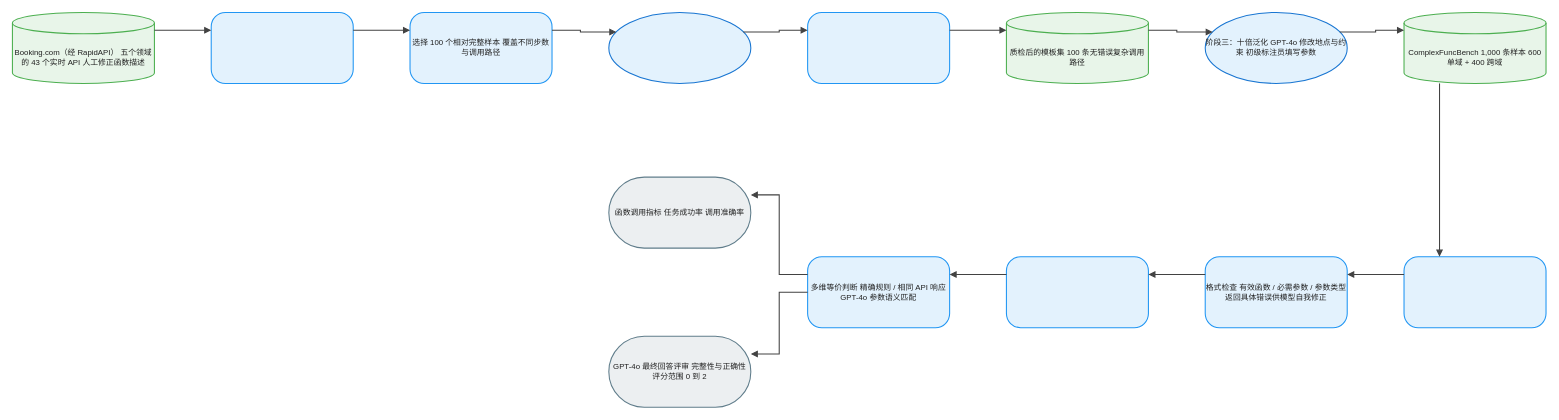
The diagram is 1559 pixels wide and 420 high, and some of its shapes have lost their labels. Here are the shapes that lost their labels. From the top down, the box of each, then its label:
(210, 12, 353, 84): 阶段一：GPT-4o 粗粒度生成 采样函数并生成 1,000 个问题 以及初始函数调用路径
(608, 12, 751, 84): 阶段二：资深标注 改写问题并修正参数 构造最短且完整的调用路径
(807, 12, 950, 84): 消除歧义 排除功能重叠函数并删除 产生多个有效参数的 API 结果
(1006, 256, 1149, 328): 将预测调用映射到标准调用 bge-large-en 向量 余弦相似度 + 匈牙利算法
(1403, 256, 1546, 328): 模型迭代预测函数调用 接收已标注的 API 响应 直至生成最终回答
